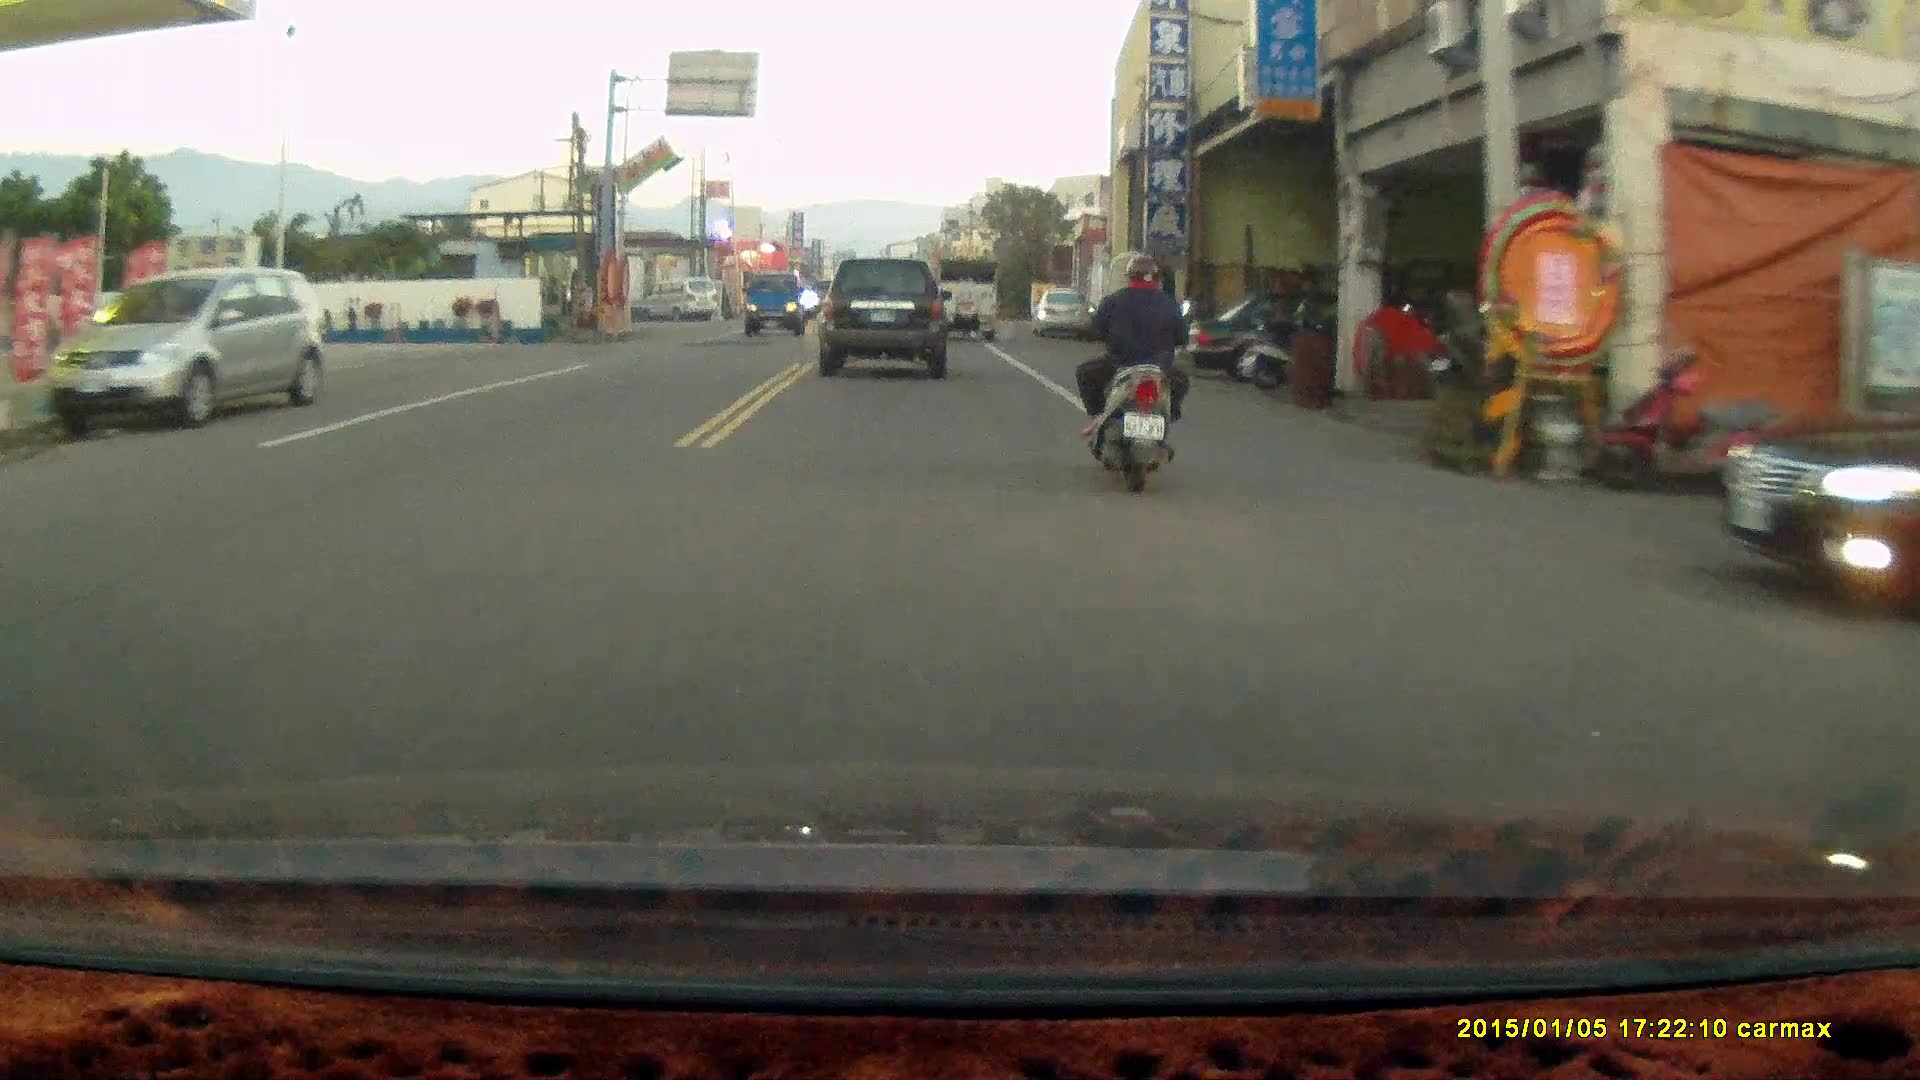rider: (1073, 250, 1187, 492)
vehicle: (1721, 364, 1920, 626), (39, 269, 327, 430), (1183, 288, 1412, 386), (815, 258, 951, 384), (928, 257, 1001, 342), (742, 272, 810, 339), (636, 279, 721, 323), (1032, 287, 1088, 339)
